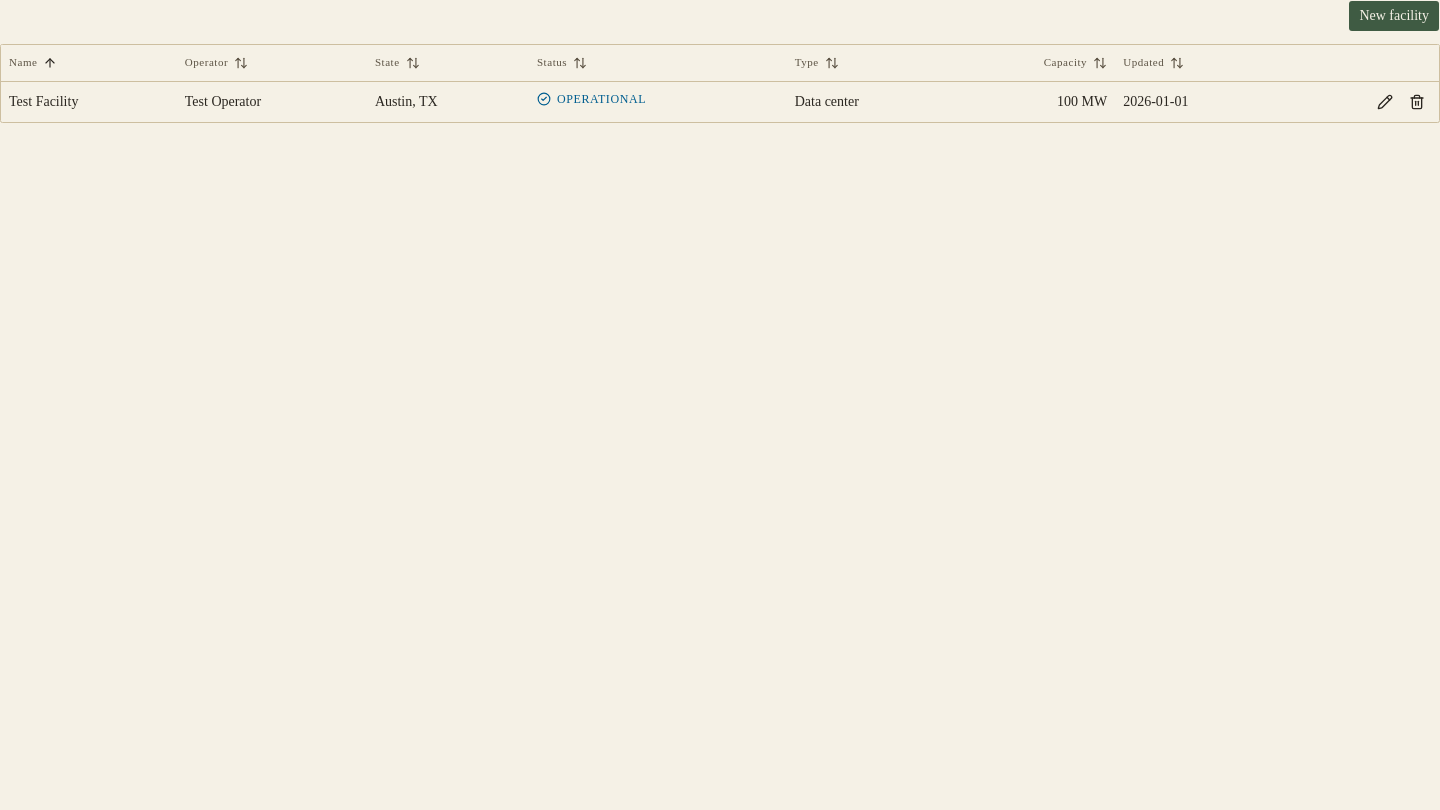
Test: FacilityAdminTable — delete flow › opens the delete confirmation dialog showing the facility name before deleting
Click the button named "Delete Test Facility" at (1417, 102), box [1403,88,1431,116]
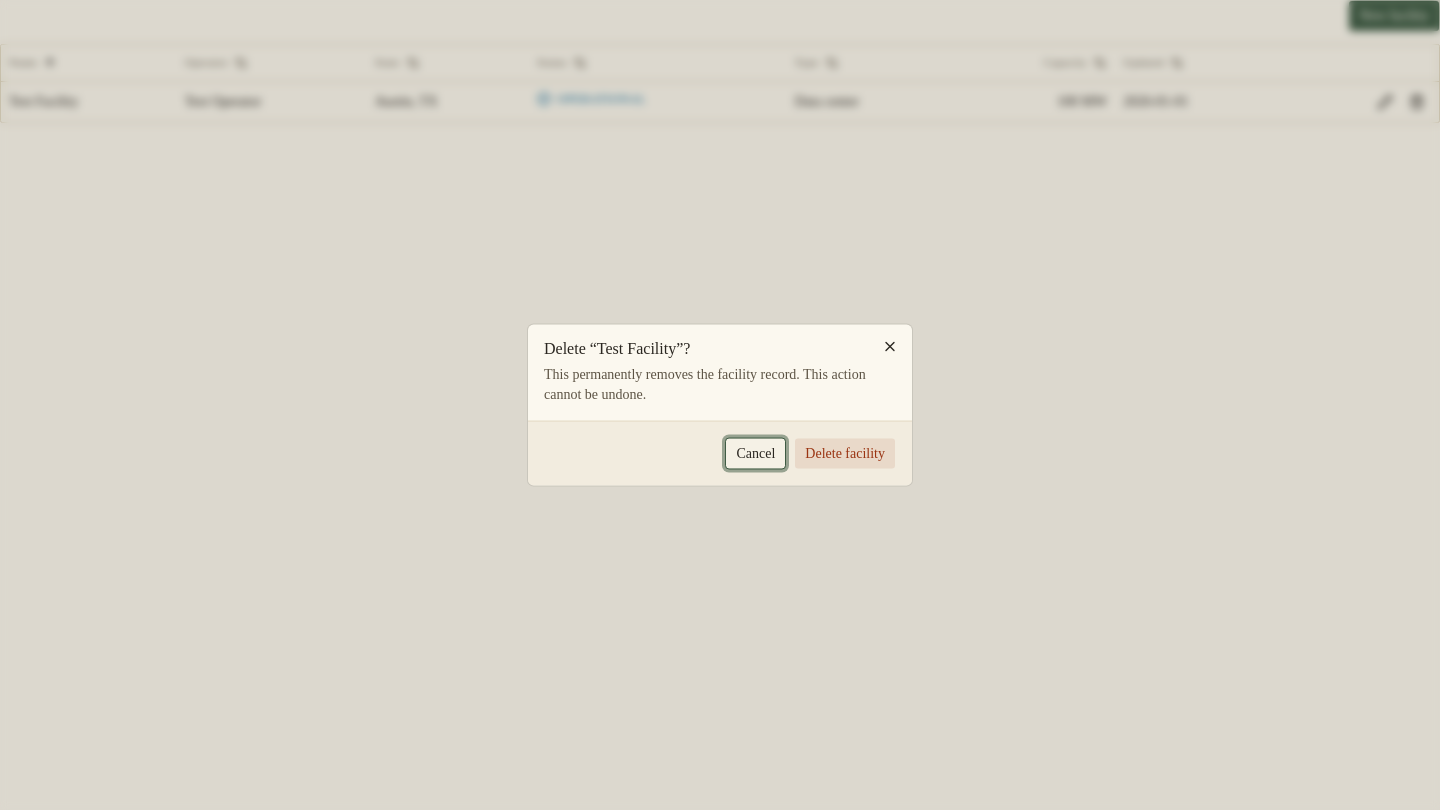
Now the heading "Delete “Test Facility”?" is shown, box [544,340,690,356]
